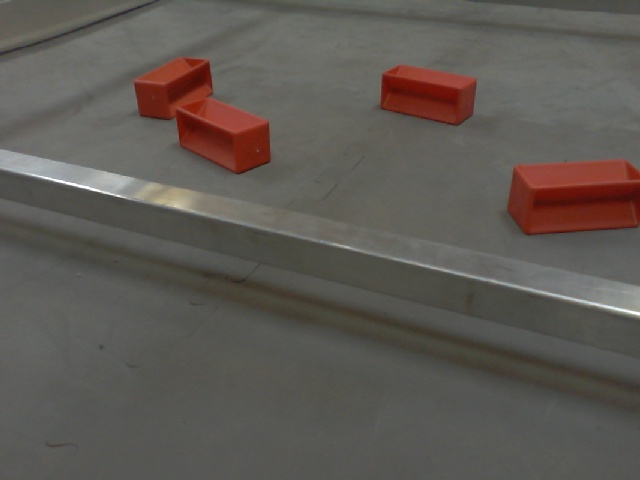RedSample: (507, 157, 640, 238), (176, 94, 273, 177), (377, 61, 478, 133), (131, 55, 215, 121)
